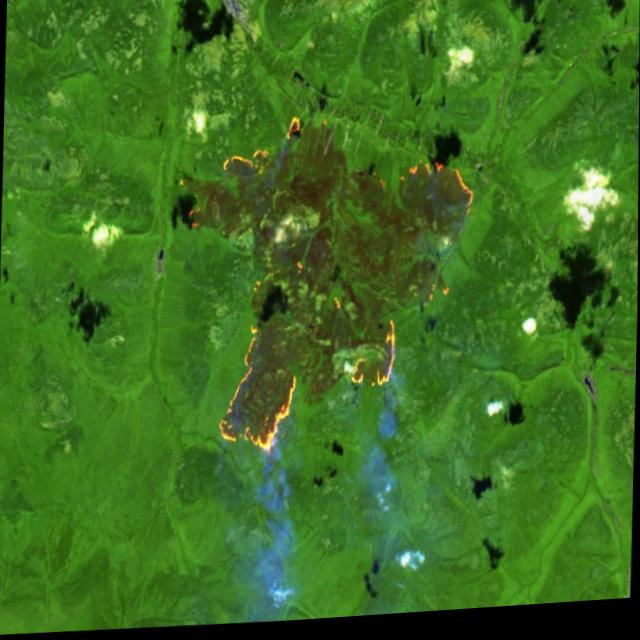fire: (170, 105, 480, 466)
